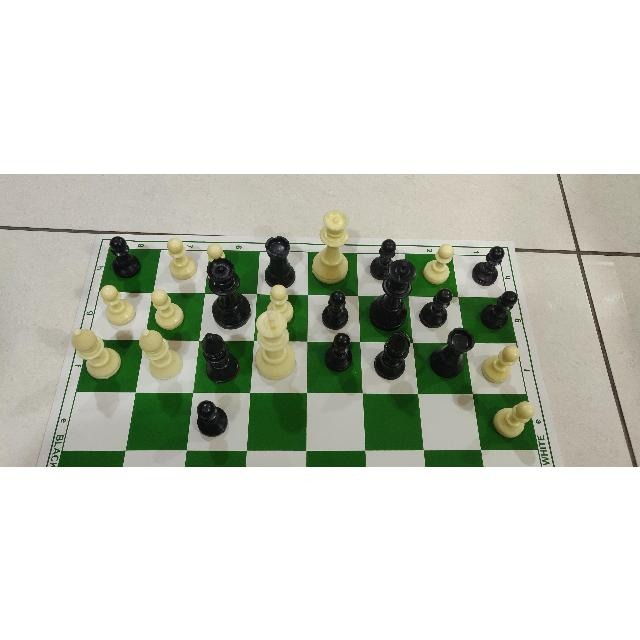black-bishop: (190, 329, 243, 384), (371, 327, 415, 390)
black-king: (366, 257, 418, 333)
black-pawn: (103, 230, 144, 280), (194, 395, 232, 443), (477, 289, 519, 331), (319, 330, 356, 377), (470, 241, 507, 288), (319, 285, 355, 330), (367, 233, 399, 282), (417, 285, 452, 329)
black-queen: (202, 257, 254, 333)
black-rook: (428, 324, 478, 385), (260, 231, 302, 289)
white-bishop: (61, 322, 124, 385), (132, 320, 184, 389)
white-king: (250, 307, 301, 385)
white-pawn: (489, 394, 541, 444), (480, 338, 523, 389), (161, 232, 201, 284), (95, 281, 137, 327), (147, 284, 187, 331), (205, 237, 238, 287), (421, 239, 456, 286), (263, 280, 299, 324)
white-queen: (307, 206, 352, 285)
